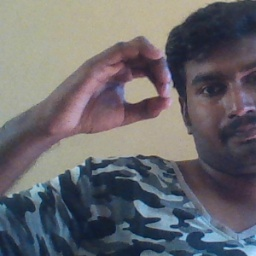O: (46, 34, 175, 135)
